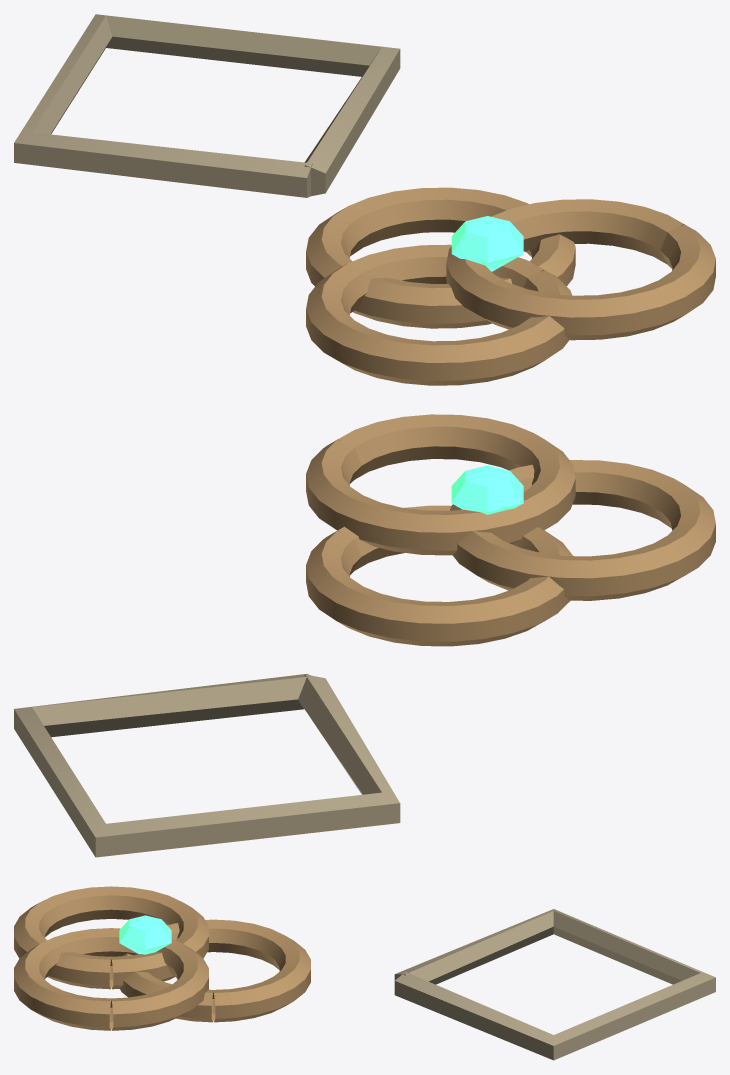
File: wayfarers_knot.glb
3 renders of one model, top to bottom at view 1: azimuth 30°, elevation 25°; view 2: azimuth 150°, elevation 25°; view 3: azimuth 270°, elevation 25°, orthographic. The views are drawn at different scales.
Visible parts, largest first — view 1: wayfarers_knot; view 2: wayfarers_knot; view 3: wayfarers_knot.
Part boxes in pixels (x1,y1,x2,y2): wayfarers_knot: (14, 14, 715, 385); wayfarers_knot: (14, 414, 715, 857); wayfarers_knot: (14, 886, 715, 1060).
Size of the model in its own units: 0.0429 by 0.0112 by 0.0928.
